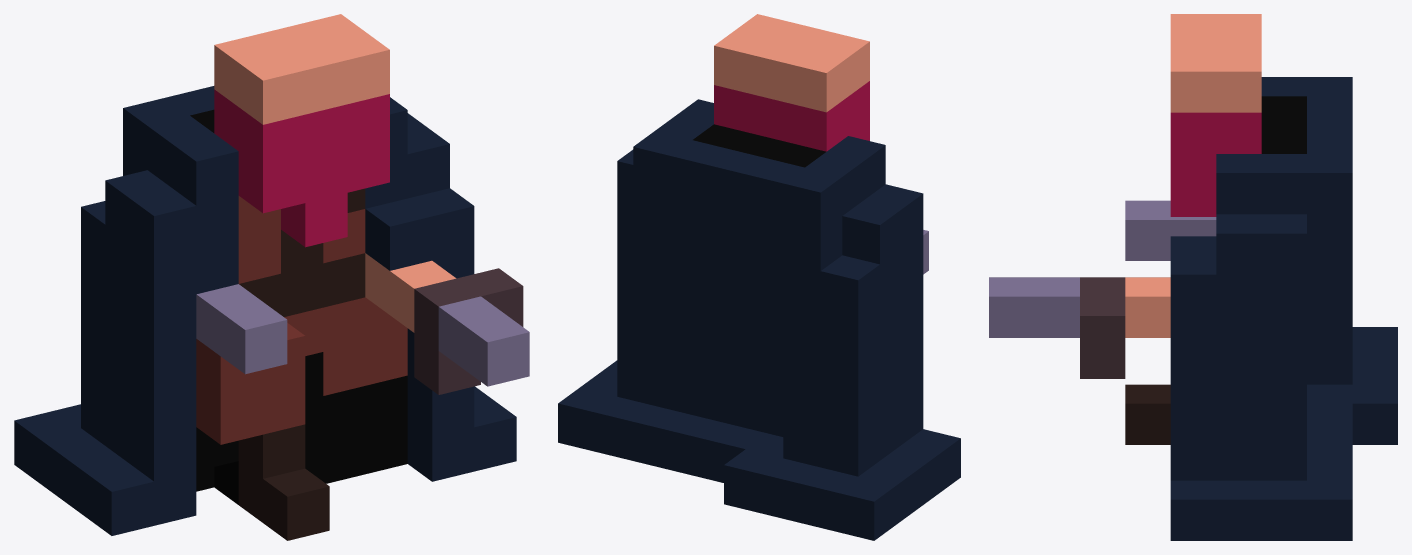
File: rogue_action_1.obj
3 renders of one model, left to right at view 1: azimuth 30°, elevation 25°; view 2: azimuth 150°, elevation 25°; view 3: azimuth 270°, elevation 25°, orthographic. The views are drawn at different scales.
Size of the model in its own units: 0.9 by 1 by 0.9.
1 material, 1 textured.
